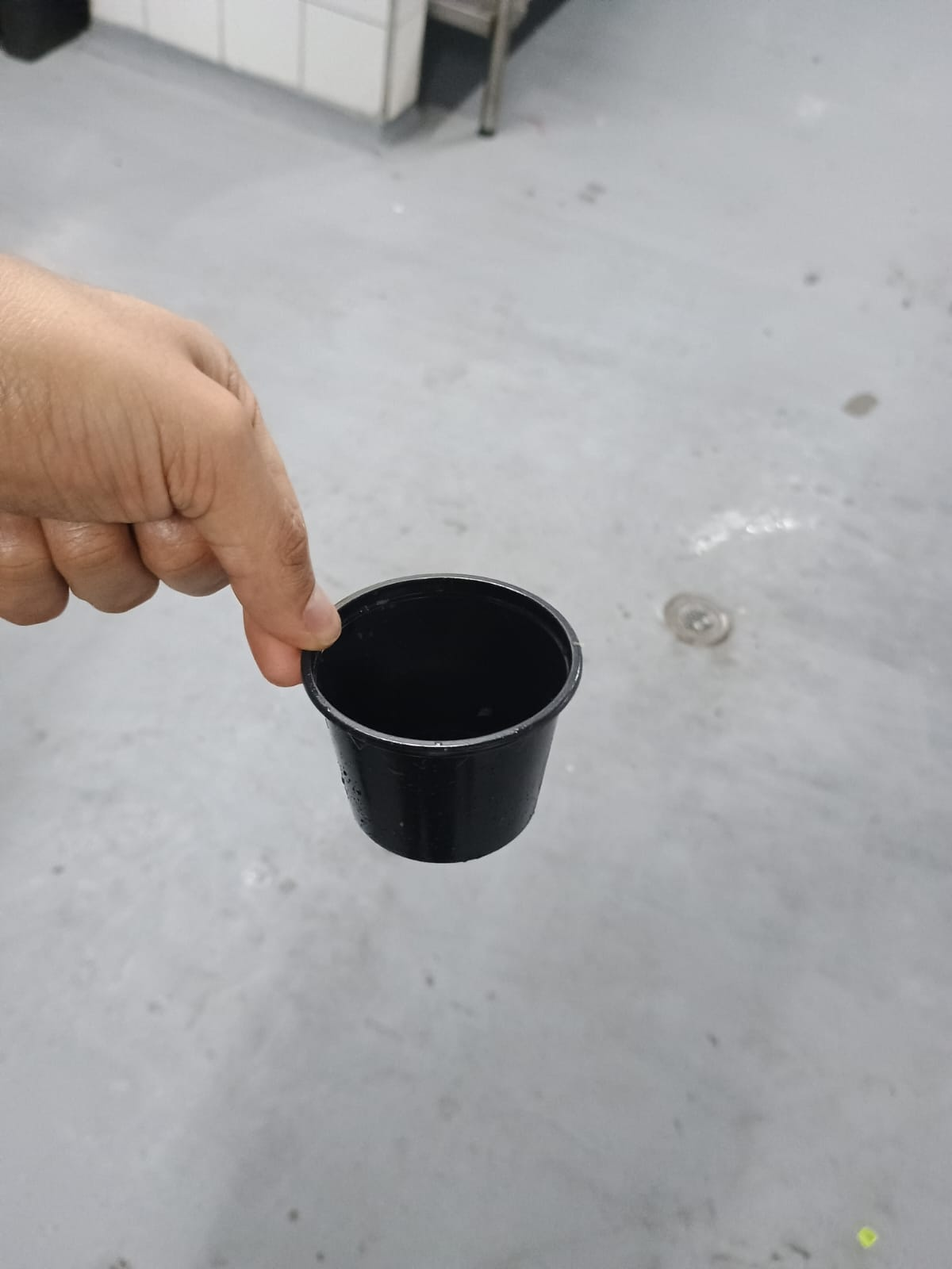Plastico: (297, 575, 584, 862)
